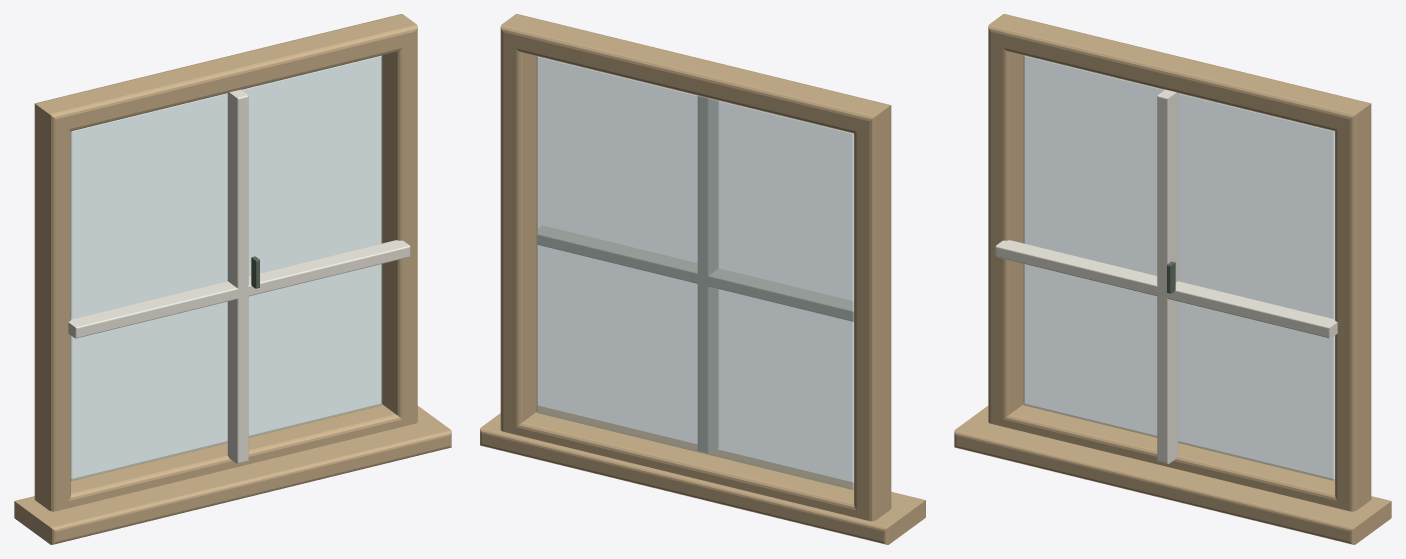
File: window.glb
3 renders of one model, left to right at view 1: azimuth 30°, elevation 25°; view 2: azimuth 150°, elevation 25°; view 3: azimuth 330°, elevation 25°, orthographic.
Visible parts, largest first — view 1: Glass, Vertical frame (×2), Horizontal frame (×2), Deep sill, Mullion, Crossbar; view 2: Glass, Vertical frame (×2), Horizontal frame (×2), Deep sill, Mullion, Crossbar; view 3: Glass, Vertical frame (×2), Horizontal frame (×2), Deep sill, Mullion, Crossbar.
Part boxes in pixels (x1=…): Glass: x1=71, y1=55, x2=382, y2=480; Vertical frame (×2): x1=34, y1=27, x2=417, y2=511; Horizontal frame (×2): x1=34, y1=14, x2=417, y2=511; Deep sill: x1=14, y1=406, x2=451, y2=544; Mullion: x1=227, y1=89, x2=248, y2=463; Crossbar: x1=68, y1=240, x2=410, y2=338; Glass: x1=536, y1=56, x2=853, y2=489; Vertical frame (×2): x1=500, y1=28, x2=891, y2=521; Horizontal frame (×2): x1=500, y1=14, x2=891, y2=520; Deep sill: x1=480, y1=405, x2=925, y2=544; Mullion: x1=697, y1=95, x2=718, y2=453; Crossbar: x1=537, y1=225, x2=853, y2=321; Glass: x1=1023, y1=55, x2=1334, y2=480; Vertical frame (×2): x1=988, y1=28, x2=1371, y2=511; Horizontal frame (×2): x1=988, y1=14, x2=1371, y2=511; Deep sill: x1=954, y1=406, x2=1391, y2=544; Mullion: x1=1157, y1=89, x2=1178, y2=463; Crossbar: x1=995, y1=240, x2=1337, y2=338.
Bounding box in the file's own units: 1.34 × 1.32 × 0.23.
